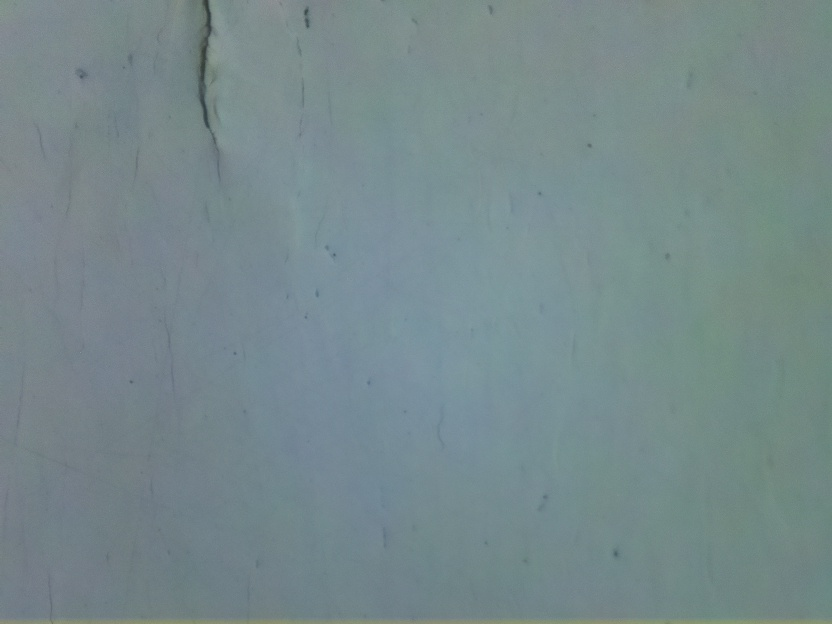crack: (195, 0, 232, 133)
